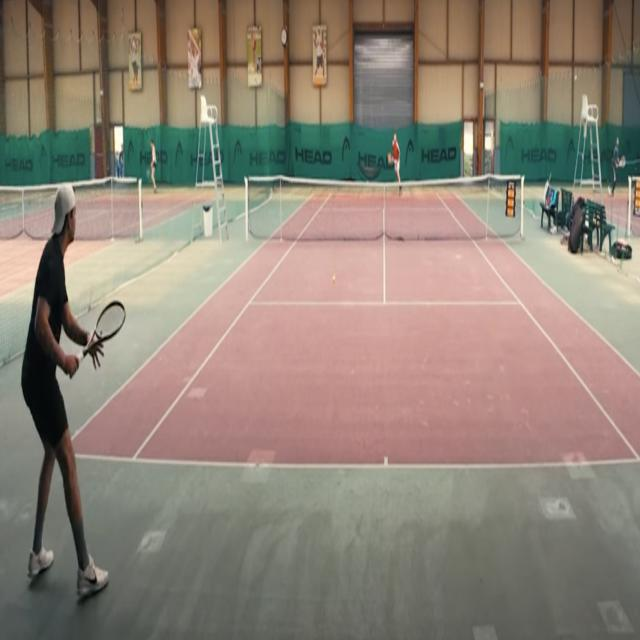ball: (333, 274, 336, 284)
